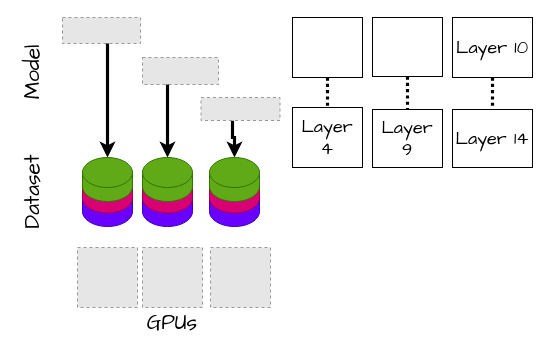
This 550x355 diagram has some shape labels left out. Grey dashed boxes stand in for pictures. The centre of each missing label's shape, as x and y in pixels:
Layer 0: (327,47)
Layer 5: (407,46)
